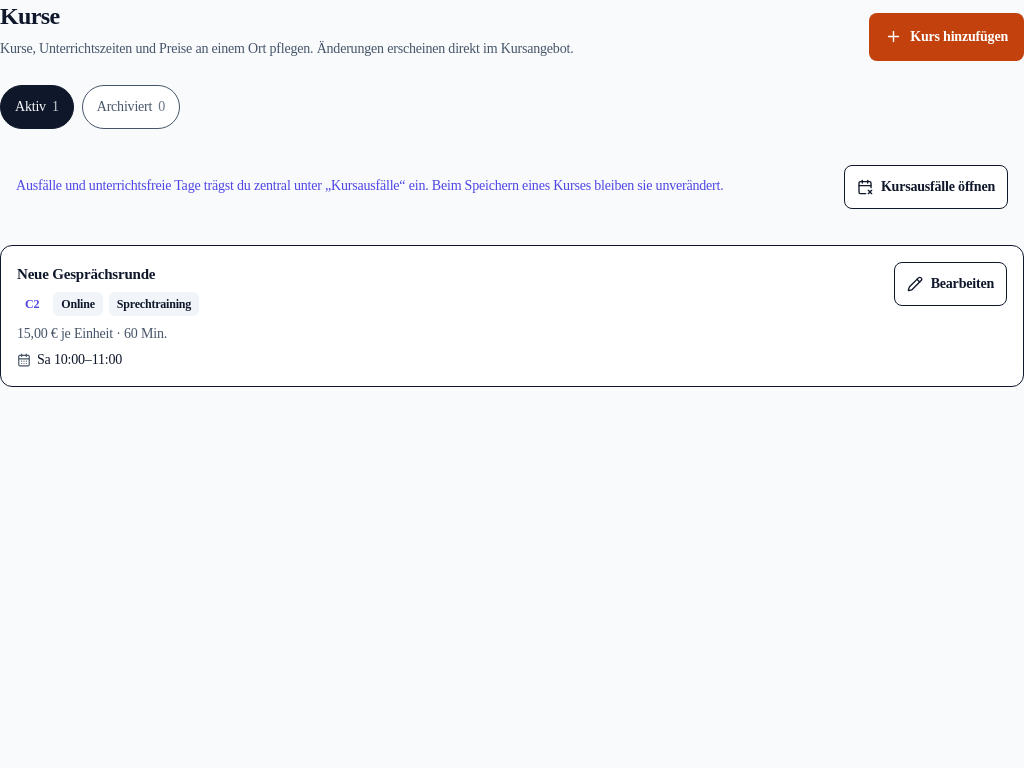
Test case: retains unsaved work and reports server failures inside the editor
This screenshot has width=1024, height=768.
Click the button with aria-label "Neue Gesprächsrunde bearbeiten" at coordinates (950, 284), box [894, 262, 1007, 306]
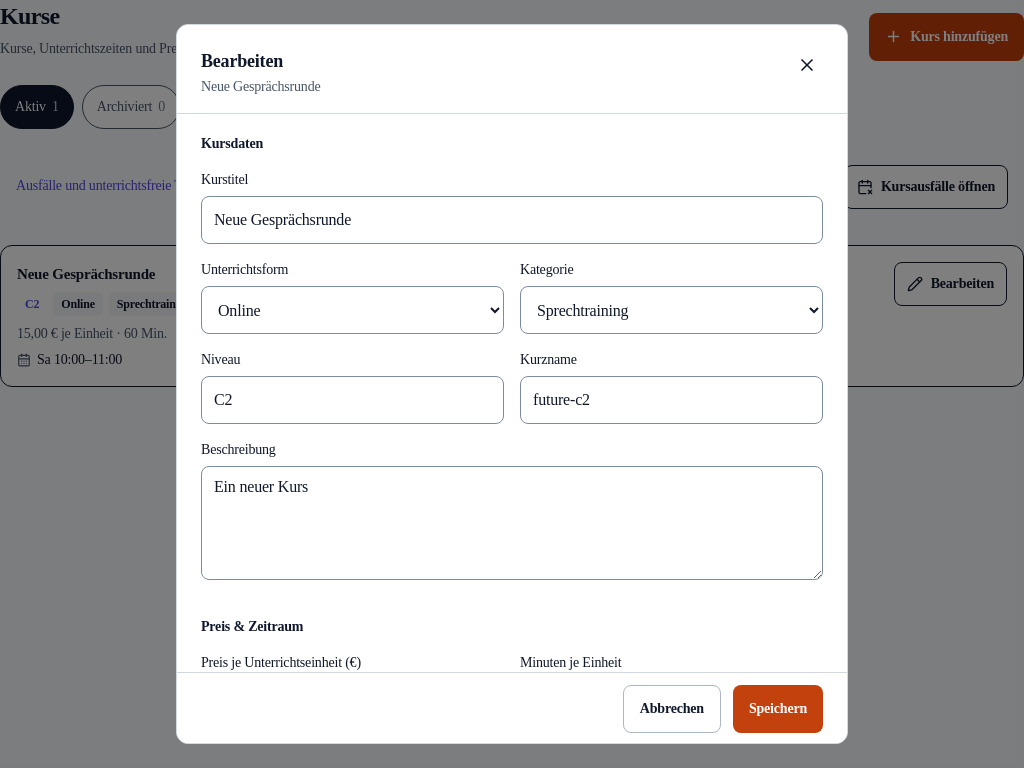
Replace the text in the field labelled "Kurstitel" with "Entwurf behalten" at coordinates (512, 220), box [201, 196, 823, 244]
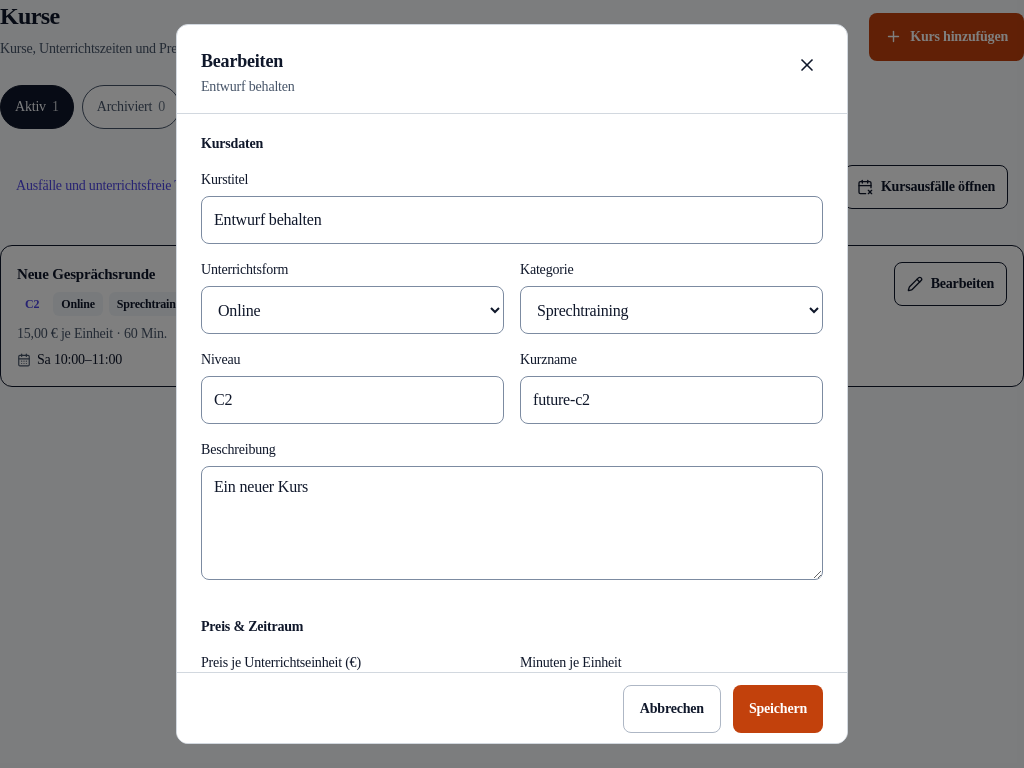
Click the button "Speichern" at coordinates (778, 709), box [733, 685, 823, 733]
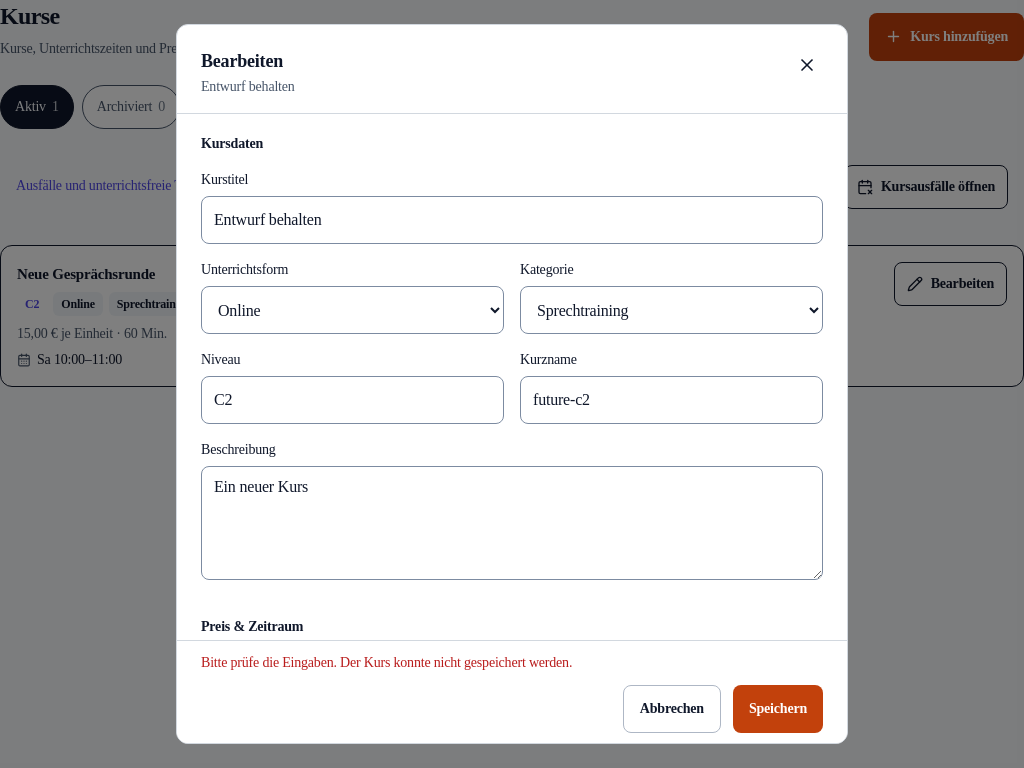
Expected: the message shows "Der Kurs konnte nicht gespeichert werden", [201, 655, 572, 670]
